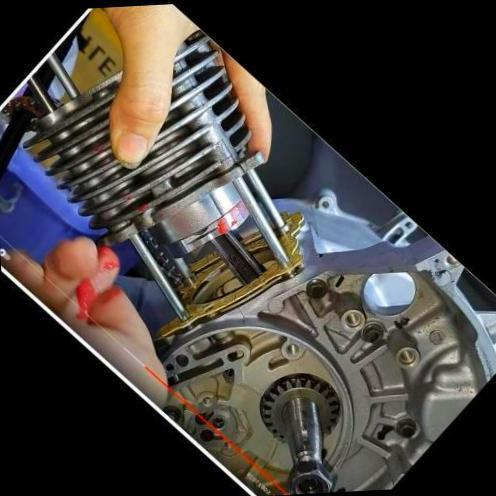hole: (390, 342, 423, 375), (338, 307, 365, 335), (194, 391, 218, 415), (281, 338, 304, 362)
